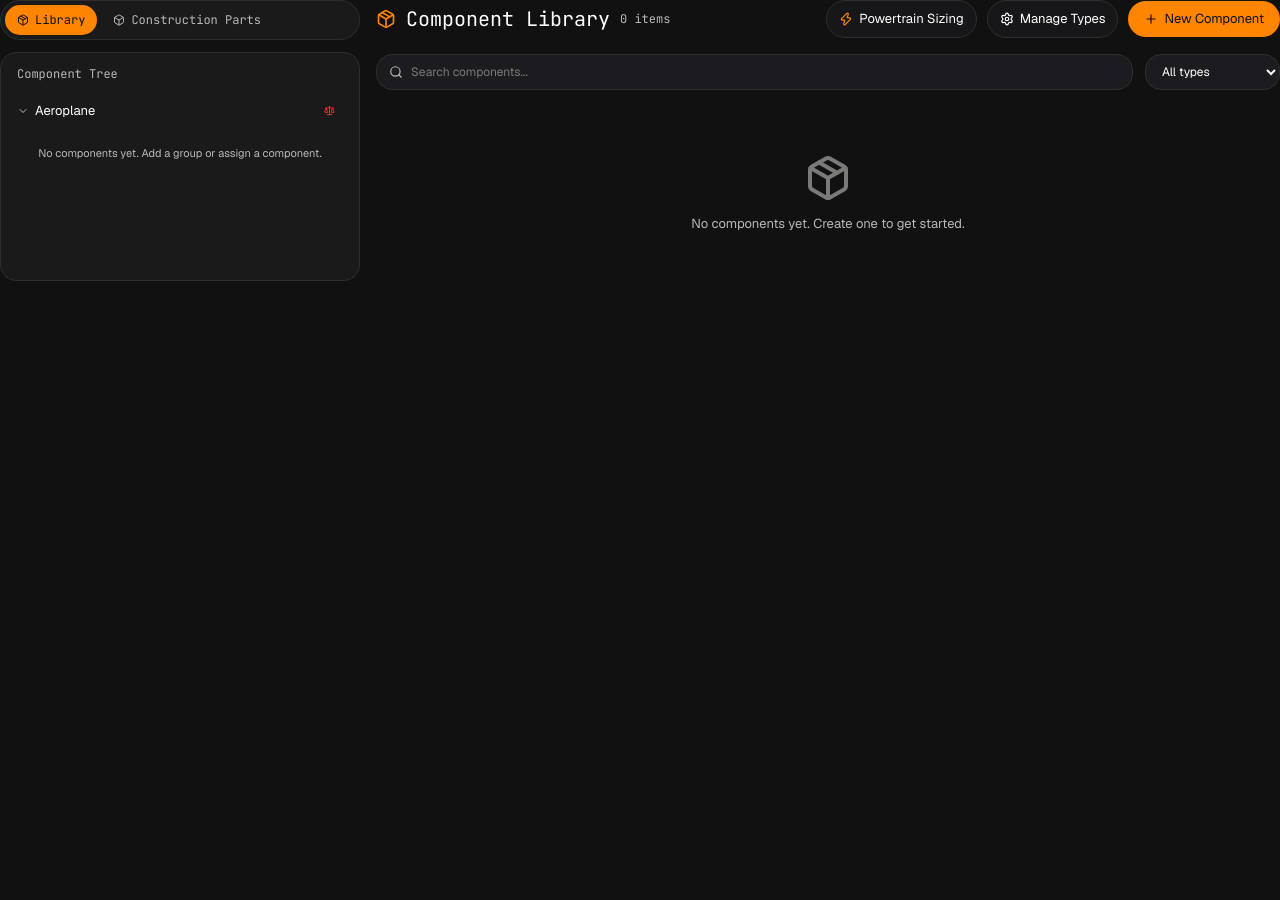
ComponentsPage — Powertrain Sizing button › opens the Powertrain Sizing modal on button click
Click the button with test id "powertrain-sizing-btn" at x=902, y=19, box [826, 0, 977, 38]
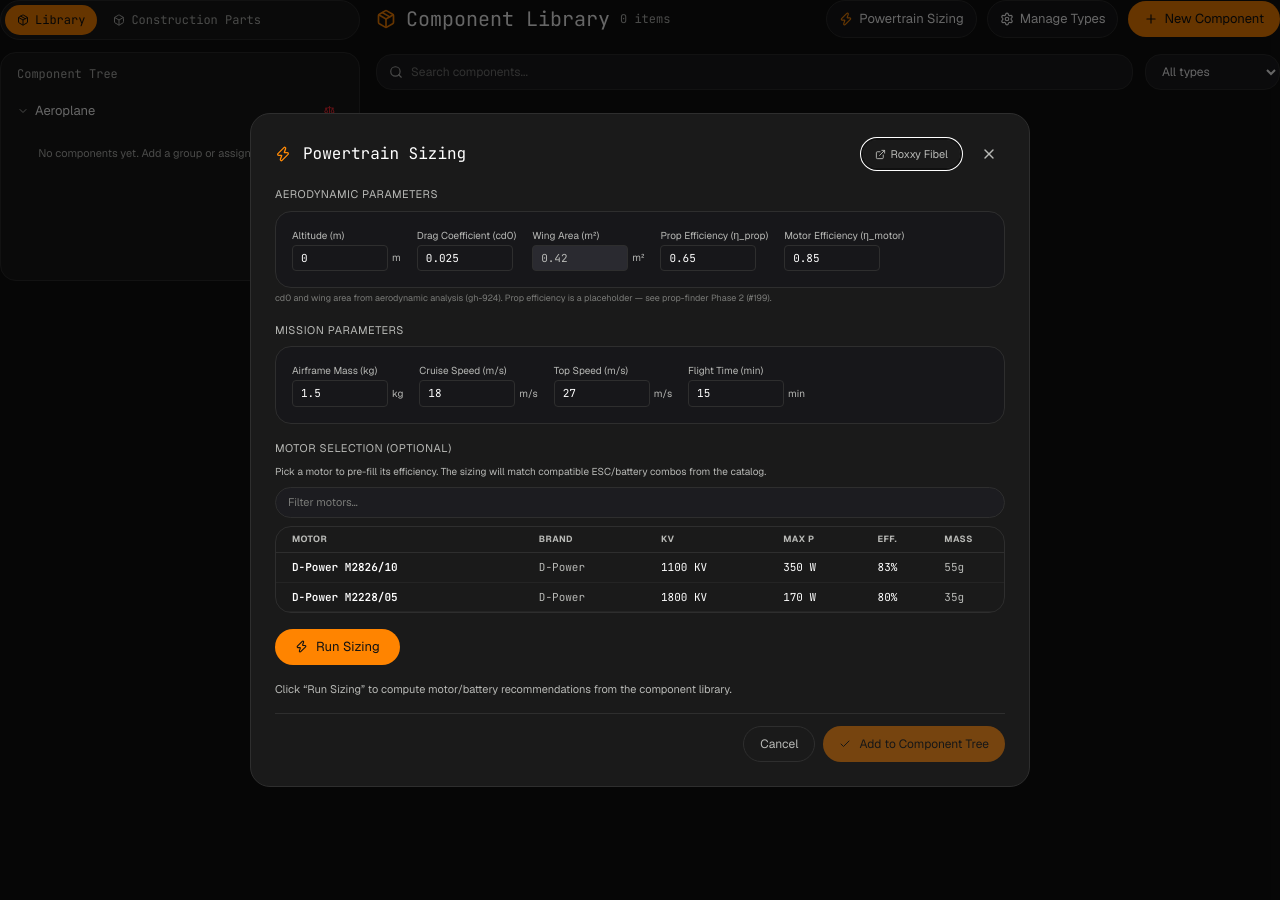
Check: the element with test id "powertrain-sizing-modal" is shown, box [250, 113, 1030, 787]
